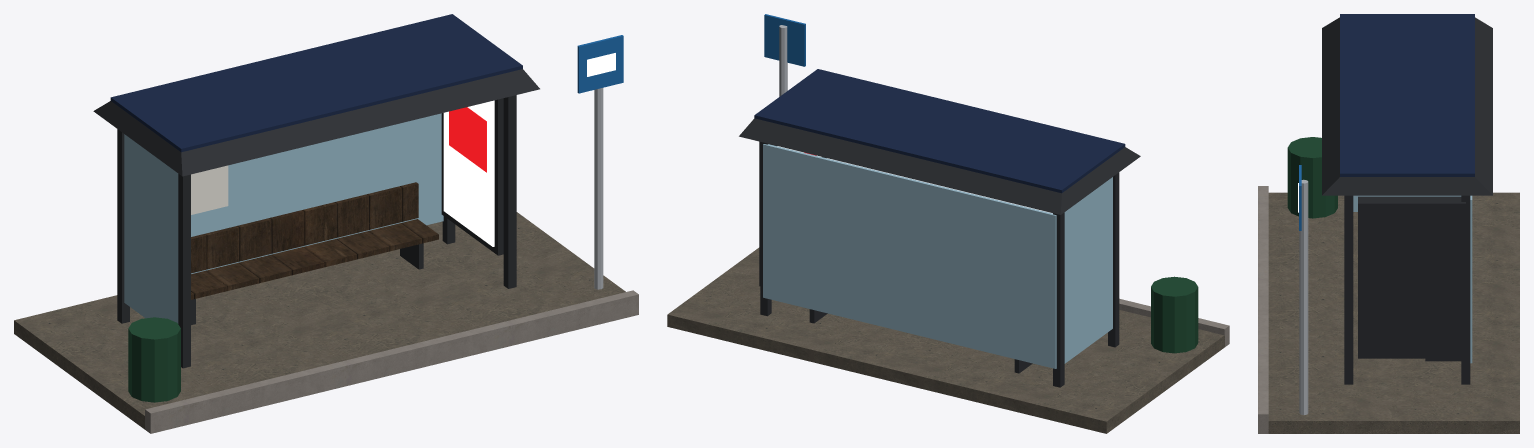
Rendered from OT_BusStop.glb.
3 views of the same model, side by side, from view 1: azimuth 30°, elevation 25°; view 2: azimuth 150°, elevation 25°; view 3: azimuth 270°, elevation 25° (orthographic). The views are drawn at different scales.
Visible parts, largest first — view 1: OT_BusStop_Sidewalk, OT_BusStop_Solar__1b2a4a, OT_BusStop_ShelterGlass__9fc3d4, OT_BusStop_ShelterFrame__2a2c30, OT_BusStop_Wood, OT_BusStop_Concrete, OT_BusStop_AdPanel__f4f8ff, OT_BusStop_CanGreen__1f4a32, OT_BusStop_Galv__b4b9bf, OT_BusStop_AdRed__d0181e, OT_BusStop_BusSign__1f6db0, OT_BusStop_RouteMap__f2efe6; view 2: OT_BusStop_ShelterGlass__9fc3d4, OT_BusStop_Sidewalk, OT_BusStop_Solar__1b2a4a, OT_BusStop_ShelterFrame__2a2c30, OT_BusStop_CanGreen__1f4a32, OT_BusStop_BusSign__1f6db0, OT_BusStop_Concrete, OT_BusStop_Galv__b4b9bf; view 3: OT_BusStop_Sidewalk, OT_BusStop_ShelterFrame__2a2c30, OT_BusStop_Solar__1b2a4a, OT_BusStop_Concrete, OT_BusStop_CanGreen__1f4a32, OT_BusStop_Galv__b4b9bf, OT_BusStop_ShelterGlass__9fc3d4.
Boxes of the visible parts, left/top/right/bottom form: OT_BusStop_Sidewalk: left=14, top=212, right=625, bottom=429; OT_BusStop_Solar__1b2a4a: left=110, top=14, right=522, bottom=152; OT_BusStop_ShelterGlass__9fc3d4: left=124, top=113, right=443, bottom=323; OT_BusStop_ShelterFrame__2a2c30: left=93, top=69, right=539, bottom=368; OT_BusStop_Wood: left=191, top=182, right=438, bottom=299; OT_BusStop_Concrete: left=145, top=290, right=638, bottom=433; OT_BusStop_AdPanel__f4f8ff: left=443, top=100, right=494, bottom=246; OT_BusStop_CanGreen__1f4a32: left=128, top=317, right=180, bottom=402; OT_BusStop_Galv__b4b9bf: left=594, top=88, right=603, bottom=289; OT_BusStop_AdRed__d0181e: left=449, top=107, right=486, bottom=172; OT_BusStop_BusSign__1f6db0: left=577, top=35, right=623, bottom=93; OT_BusStop_RouteMap__f2efe6: left=191, top=165, right=228, bottom=214; OT_BusStop_ShelterGlass__9fc3d4: left=763, top=144, right=1112, bottom=368; OT_BusStop_Sidewalk: left=667, top=247, right=1224, bottom=433; OT_BusStop_Solar__1b2a4a: left=754, top=69, right=1125, bottom=193; OT_BusStop_ShelterFrame__2a2c30: left=739, top=118, right=1140, bottom=387; OT_BusStop_CanGreen__1f4a32: left=1151, top=276, right=1198, bottom=353; OT_BusStop_BusSign__1f6db0: left=764, top=14, right=805, bottom=66; OT_BusStop_Concrete: left=1119, top=298, right=1229, bottom=346; OT_BusStop_Galv__b4b9bf: left=779, top=25, right=787, bottom=96; OT_BusStop_Sidewalk: left=1268, top=192, right=1519, bottom=433; OT_BusStop_ShelterFrame__2a2c30: left=1322, top=17, right=1492, bottom=384; OT_BusStop_Solar__1b2a4a: left=1340, top=14, right=1474, bottom=176; OT_BusStop_Concrete: left=1258, top=186, right=1268, bottom=433; OT_BusStop_CanGreen__1f4a32: left=1287, top=137, right=1337, bottom=218; OT_BusStop_Galv__b4b9bf: left=1299, top=179, right=1308, bottom=414; OT_BusStop_ShelterGlass__9fc3d4: left=1353, top=195, right=1472, bottom=363.
Bounding box in the file's own units: 6.08 × 3.08 × 2.91.
Materials: 13 (3 with a texture image).
